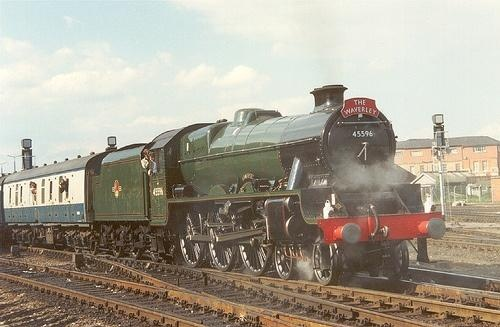train: (1, 84, 445, 288)
